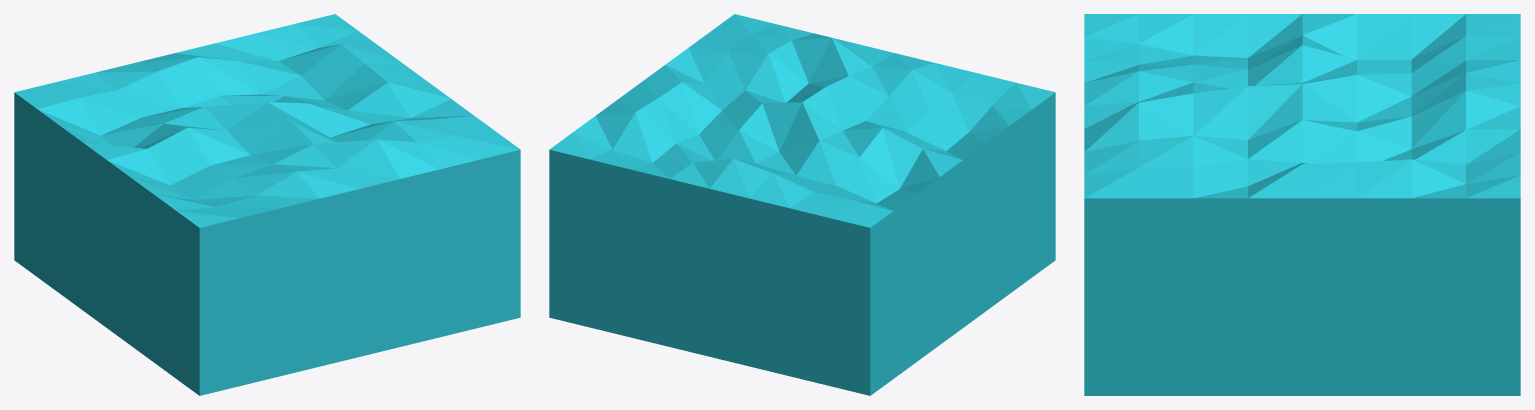
The model's file is Water.fbx.
3 renders of one model, left to right at view 1: azimuth 30°, elevation 25°; view 2: azimuth 150°, elevation 25°; view 3: azimuth 270°, elevation 25°, orthographic. The views are drawn at different scales.
Parts seen in each view (by area): view 1: Cube; view 2: Cube; view 3: Cube.
Boxes of the visible parts, x1=… form: Cube: x1=14, y1=14, x2=520, y2=395; Cube: x1=549, y1=14, x2=1055, y2=395; Cube: x1=1084, y1=14, x2=1520, y2=395.
Size of the model in its own units: 200 by 113 by 200.
